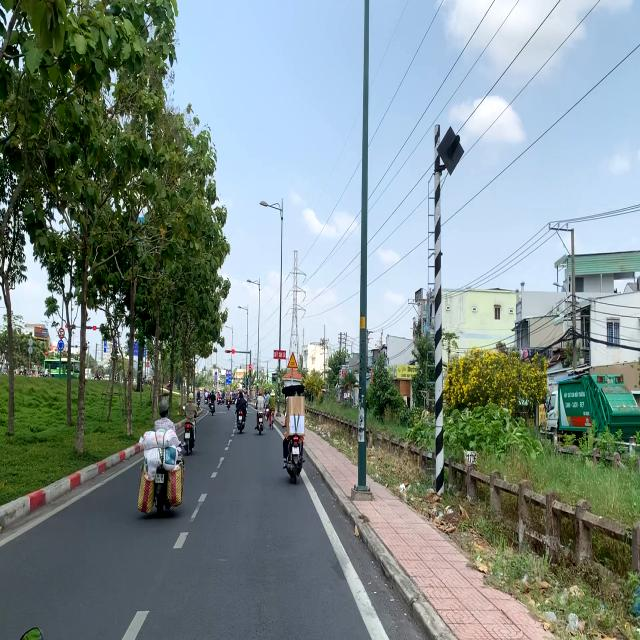W.210: (287, 351, 298, 369)
